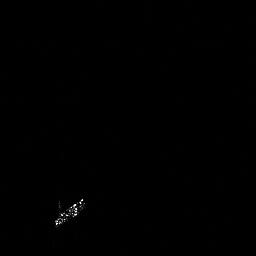ship: (48, 193, 89, 232)
